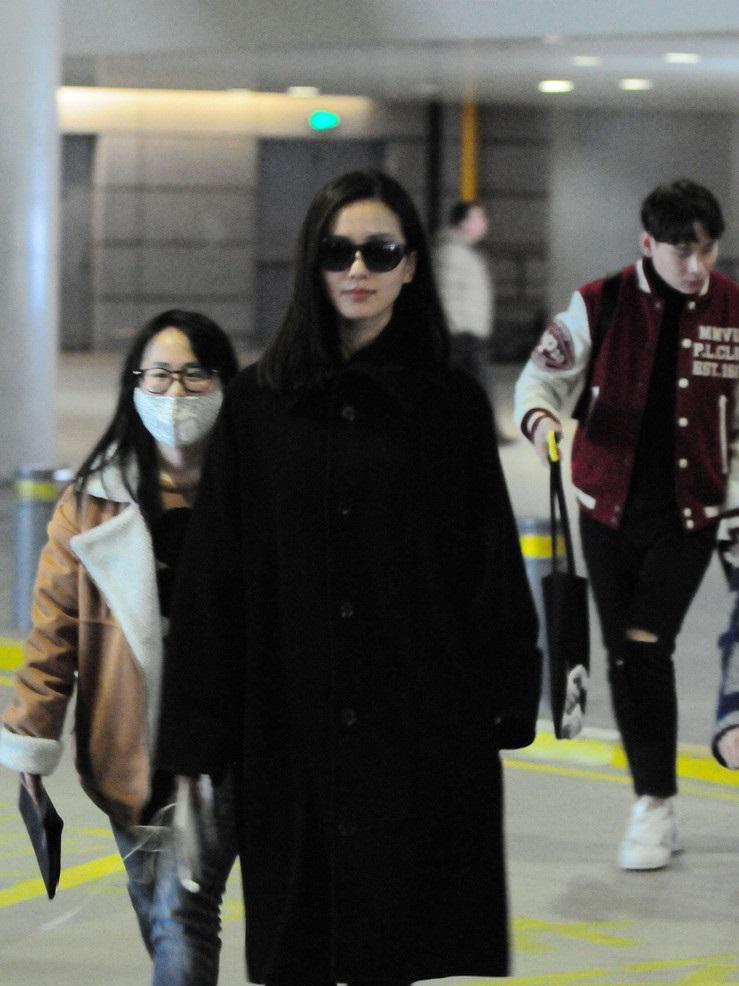NONE: (321, 226, 412, 316), (663, 229, 720, 295)
WRONG: (135, 351, 224, 440)
